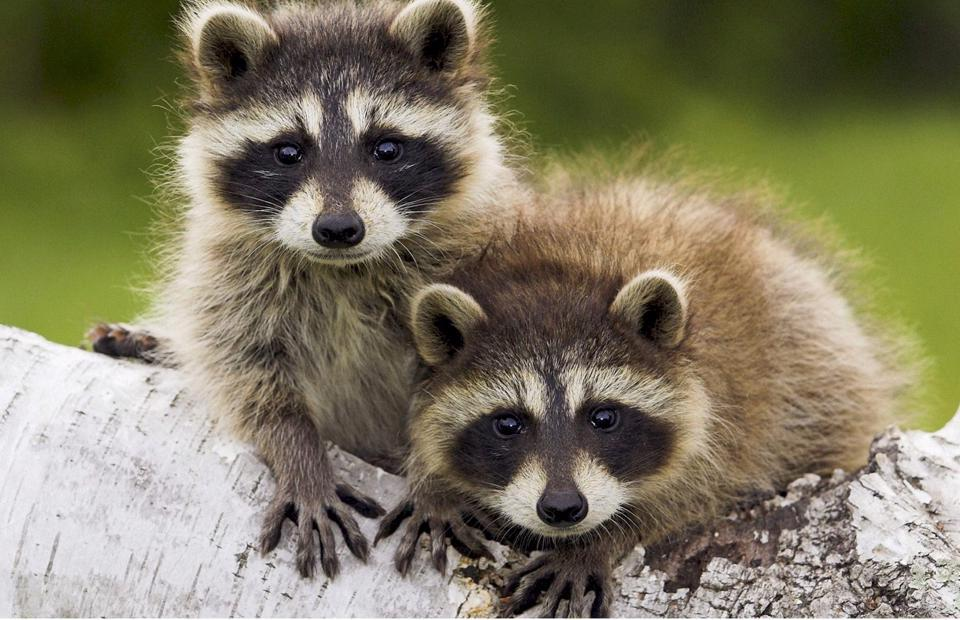raccoon: (138, 0, 508, 576), (408, 176, 914, 589)
